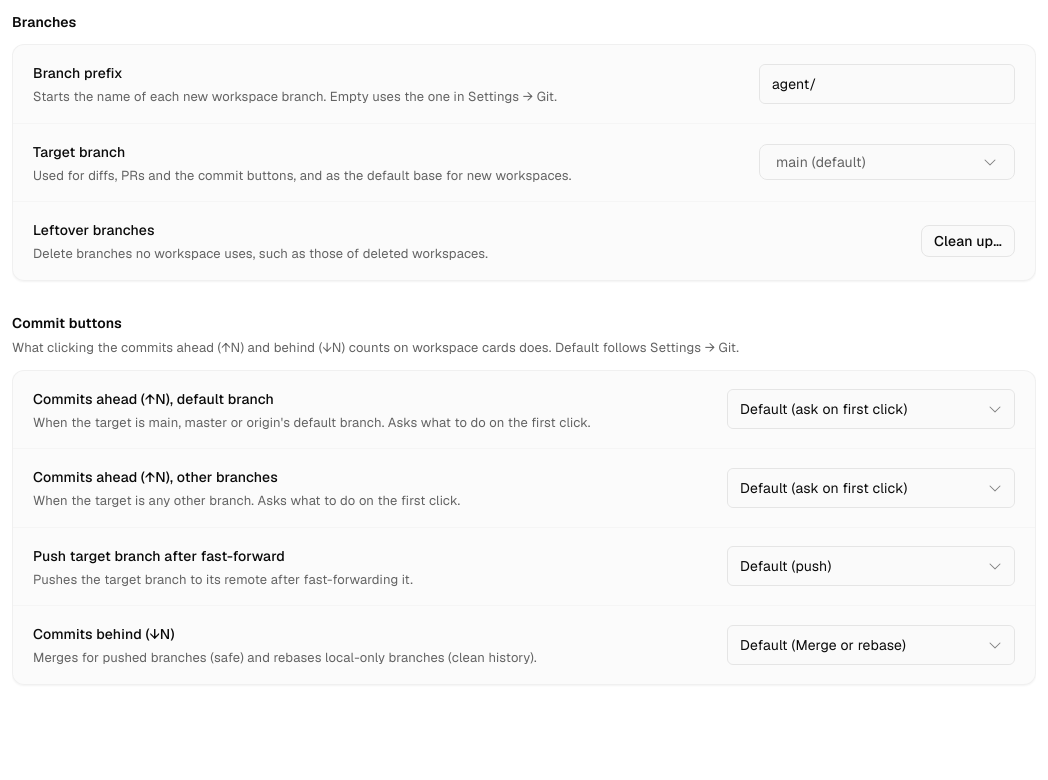
Test case: ProjectSettingsPage › asks on first click only while both ↑N choices are Default
Select "Disabled" in the dropdown labelled "Commits ahead (↑N), other branches" at (871, 488), box [727,468,1015,508]
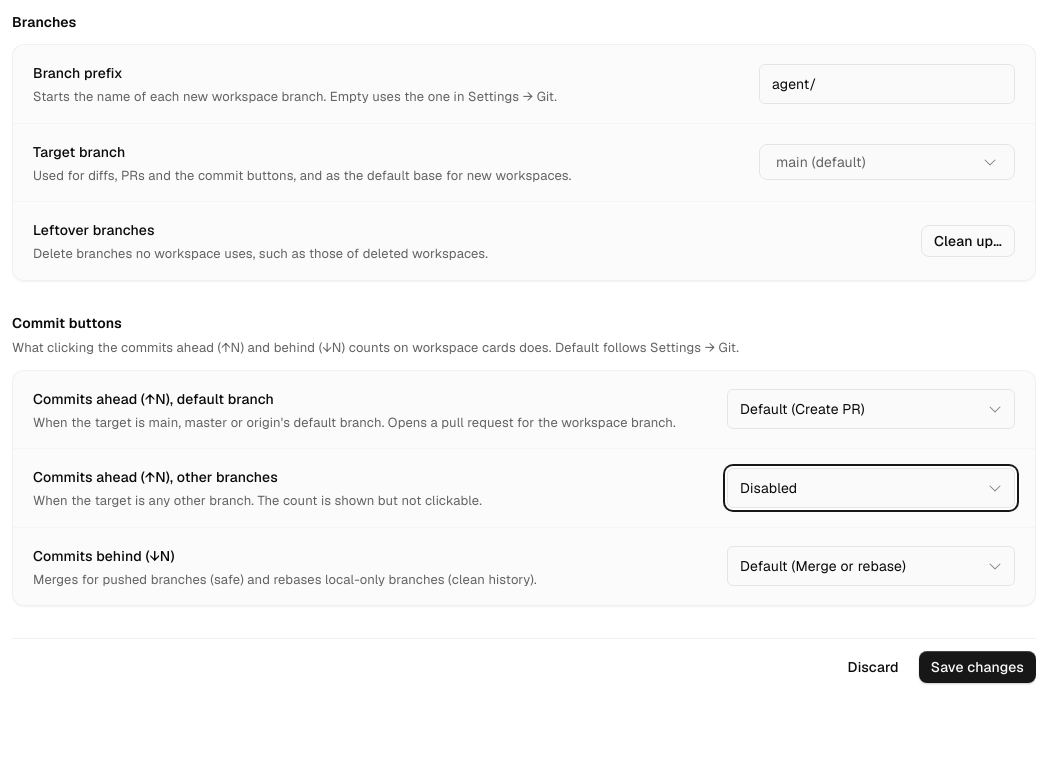
Result: the text "Asks what to do on the first click" is gone
